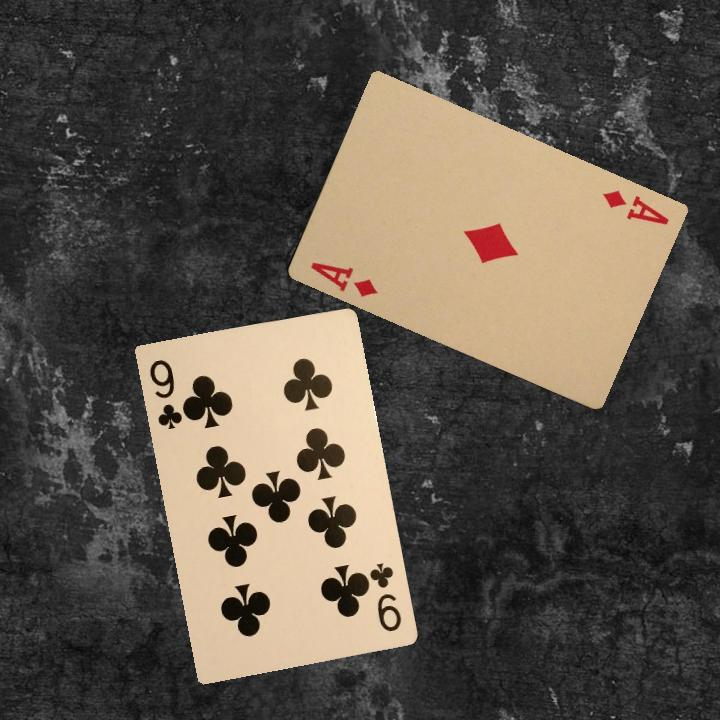9c: (362, 559, 404, 635), (145, 355, 185, 432)
Ad: (598, 185, 672, 228), (306, 257, 378, 300)
